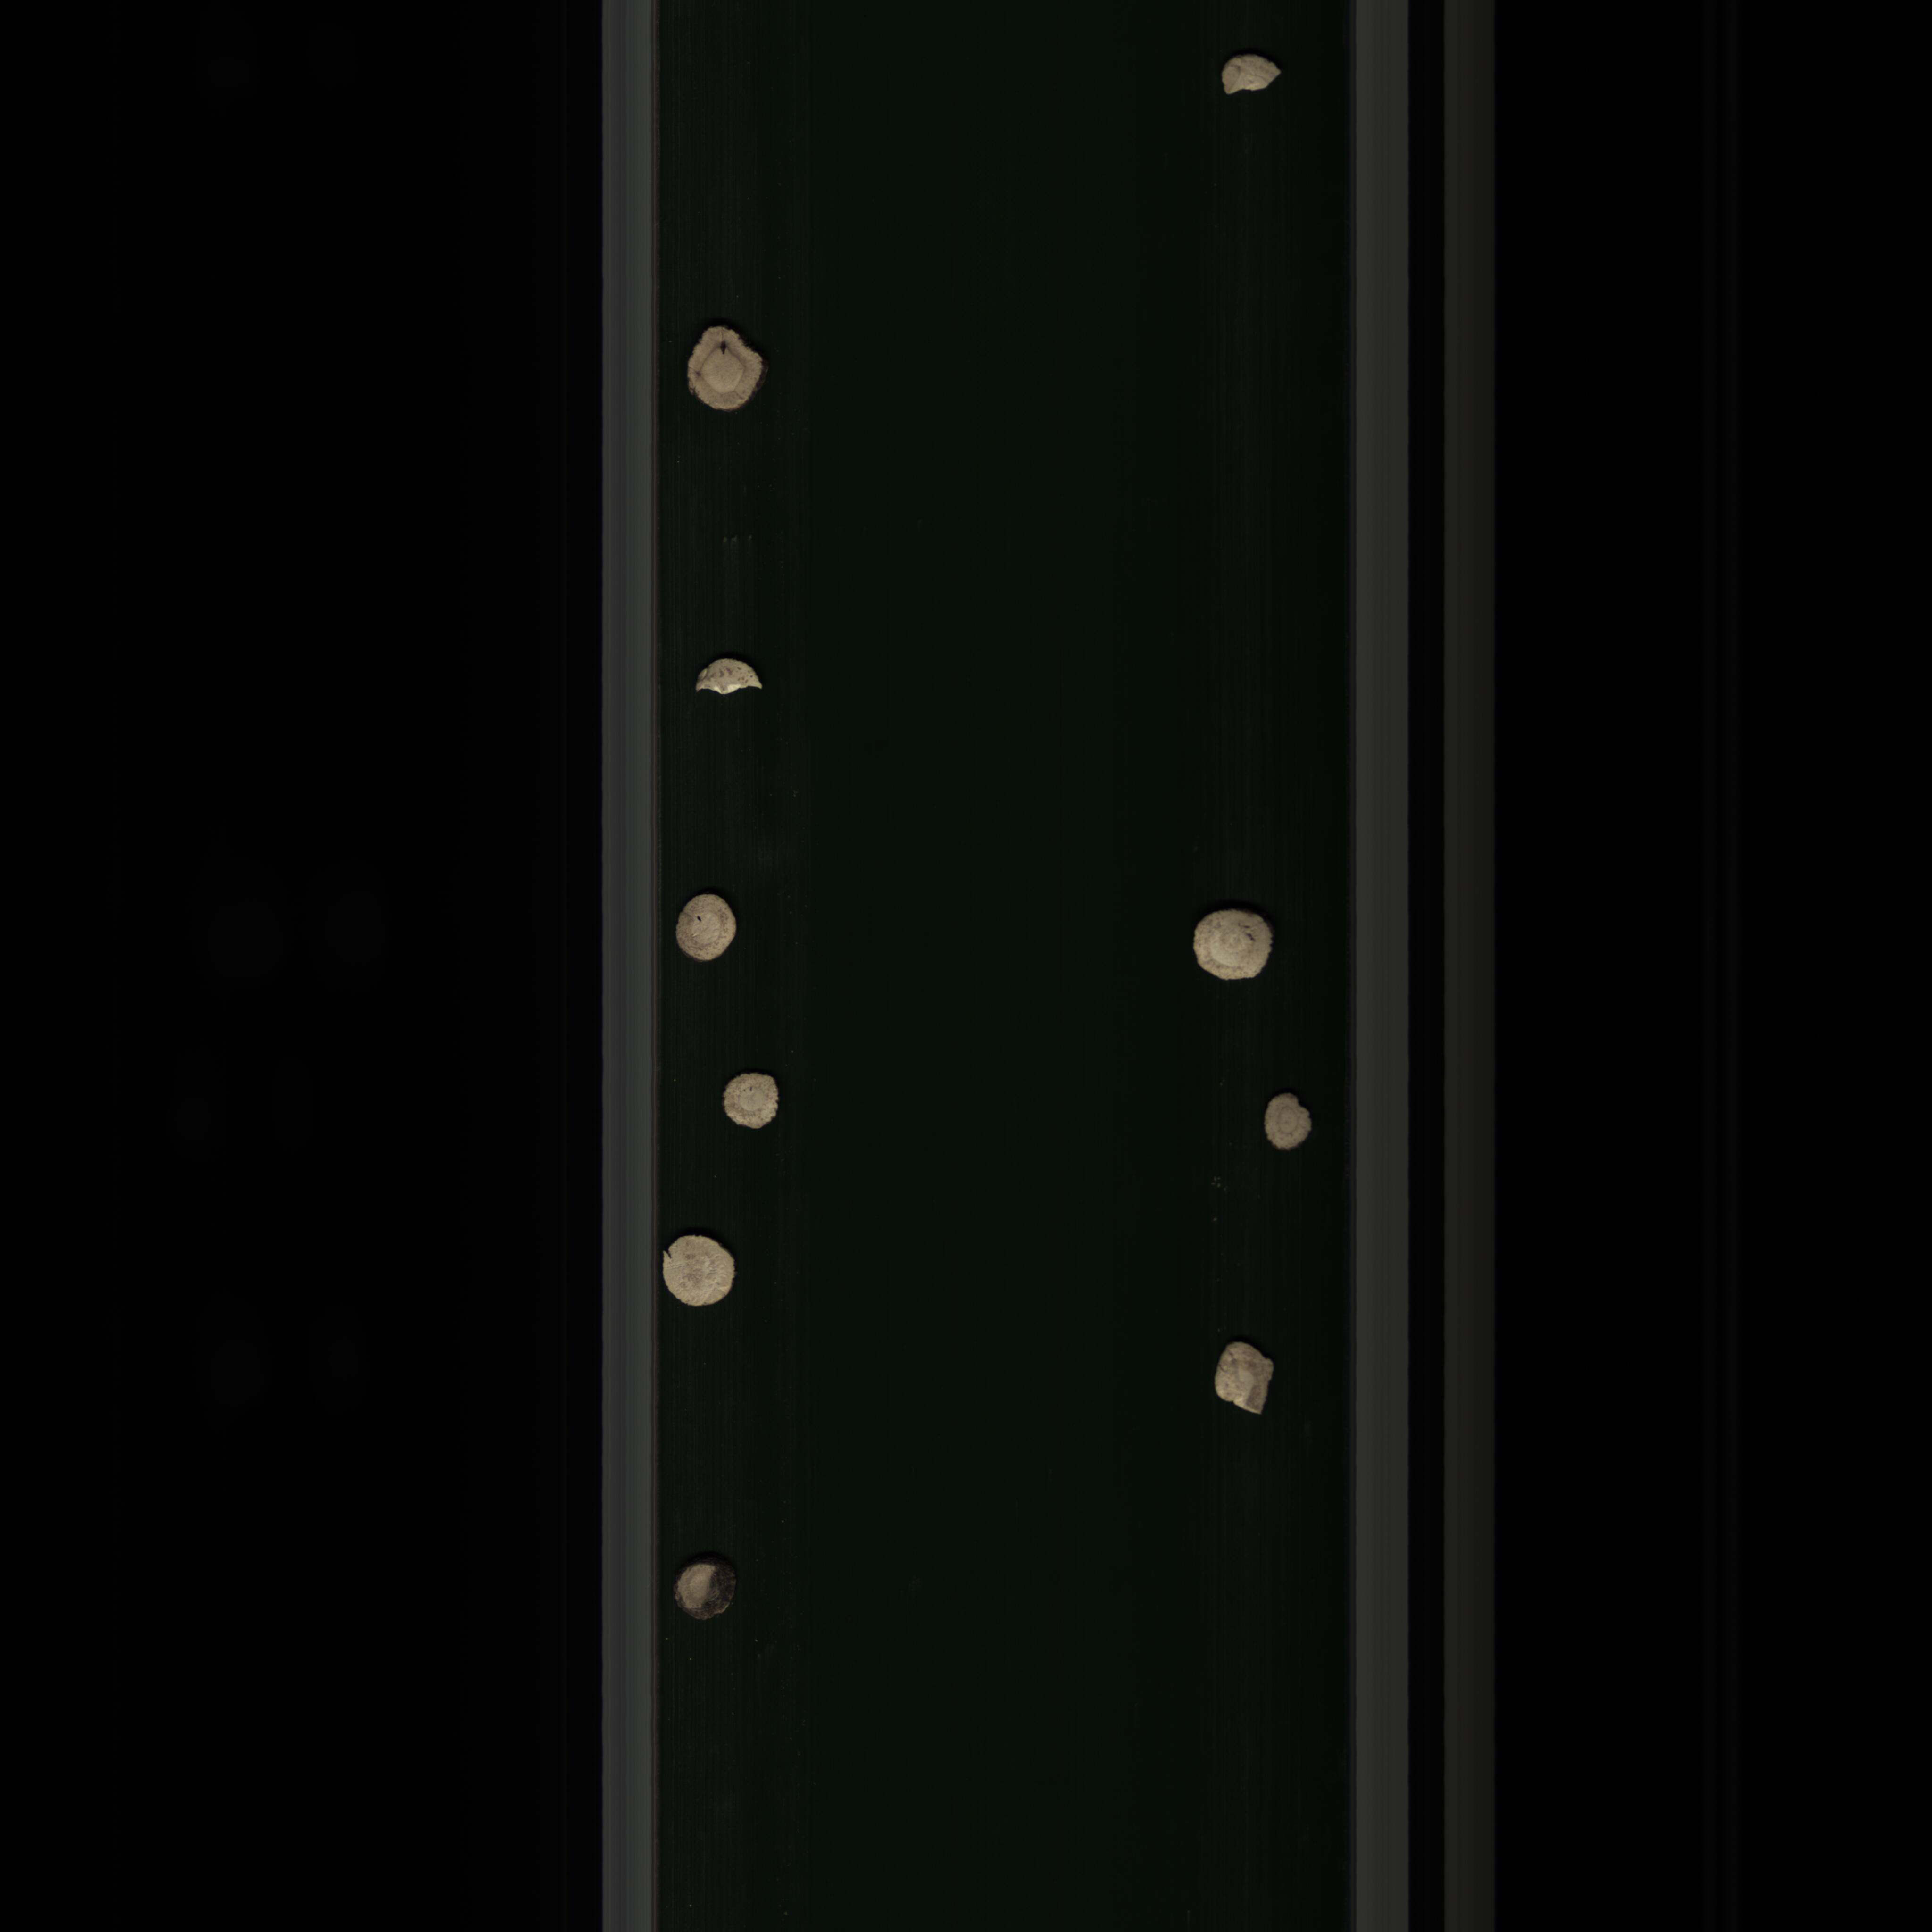debris: (1207, 1334, 1283, 1431), (685, 649, 773, 711), (1217, 48, 1290, 108)
hole: (678, 318, 778, 426)
moldy: (672, 1557, 748, 1628)
